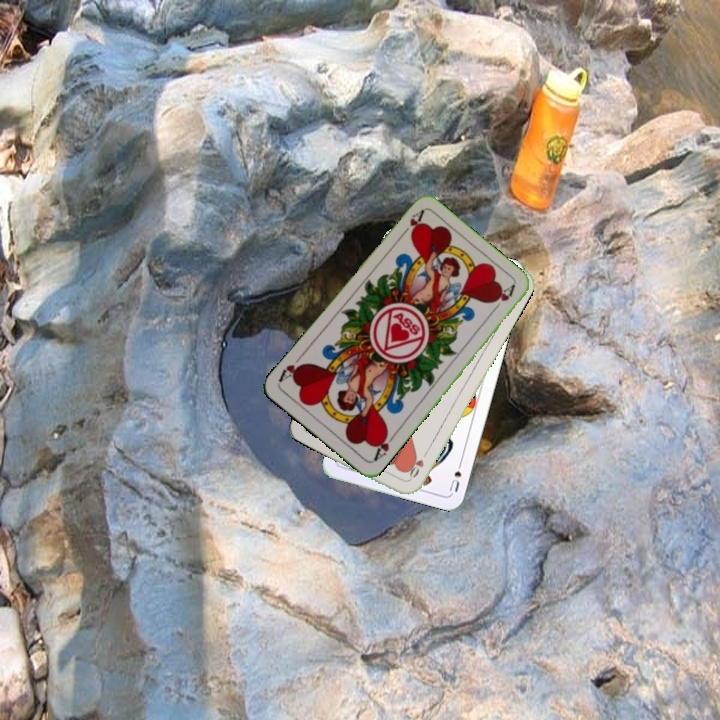HA: (395, 206, 426, 241), (369, 427, 398, 464)
HO: (403, 448, 430, 484)
SU: (445, 455, 465, 495)
